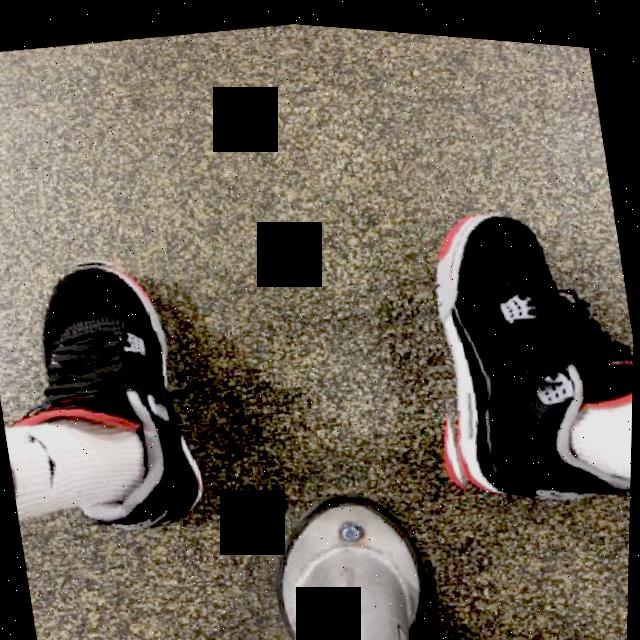shoe: (402, 177, 637, 526), (0, 238, 216, 553)
